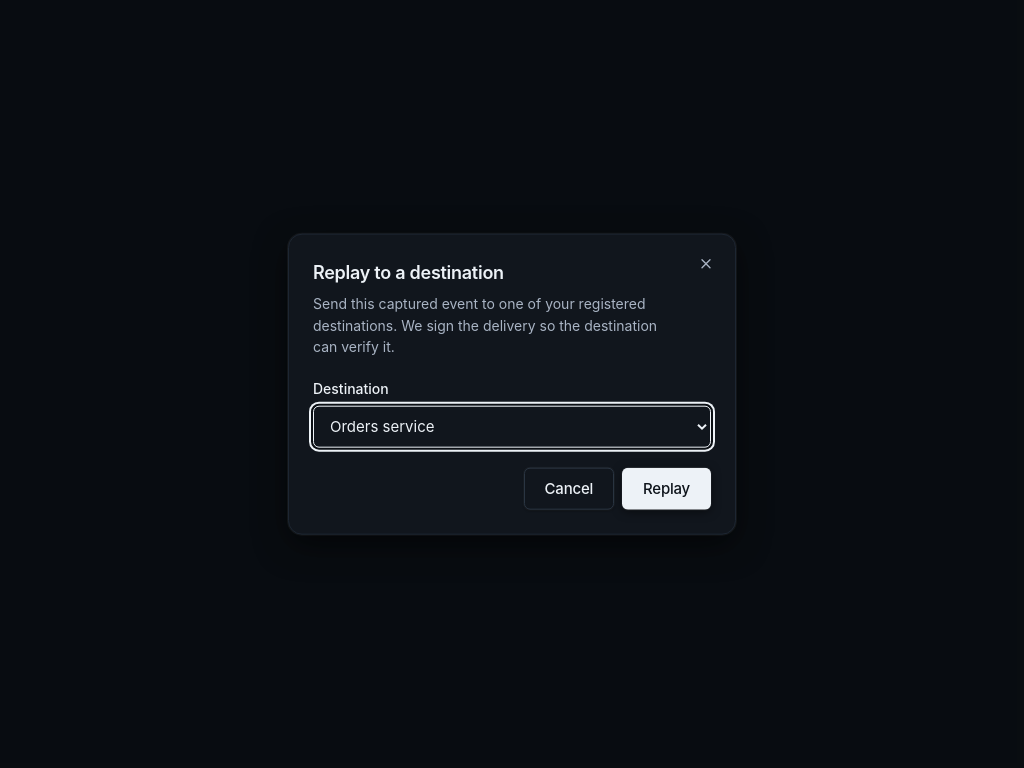
Test case: ReplayDialog › renders a delivered result with an ok-tone status pill and the status code
Click the button "Replay" at {"x": 666, "y": 488}, box [622,467,711,509]
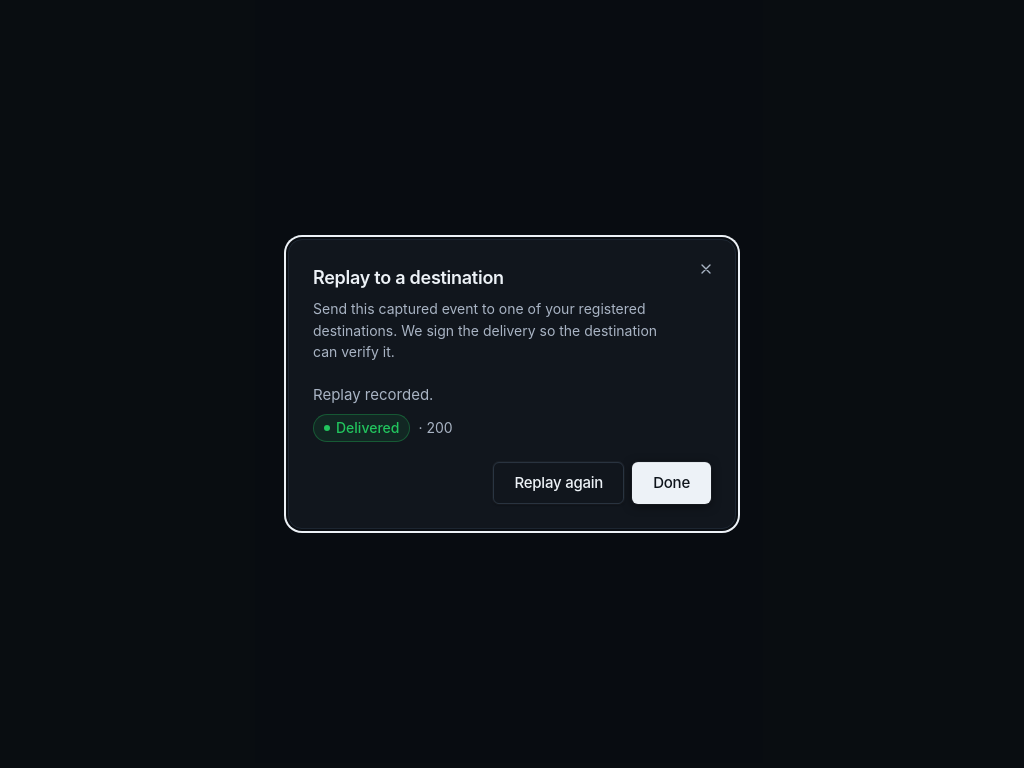
Now the text "Delivered" is shown, box [313,414,410,442]
Now the text "· 200" is shown, box [418,417,453,439]
Now the text "Replay recorded." is shown, box [313,385,433,404]
